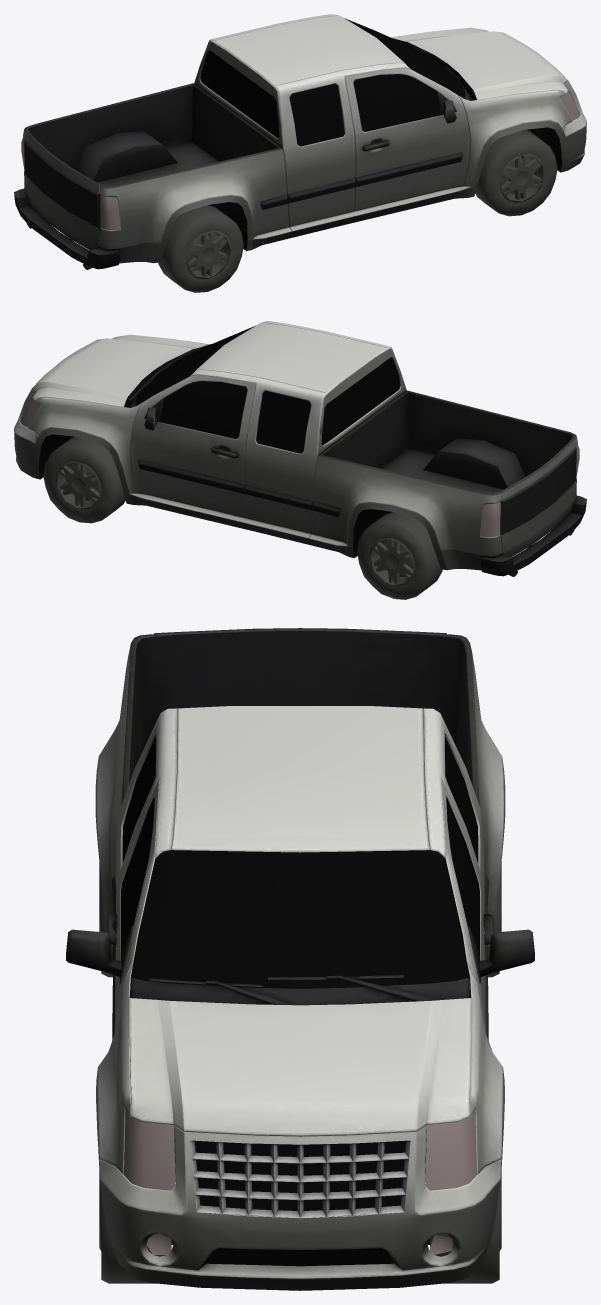
Rendered from pc-pickup-white.lod0.glb.
The picture shows the model from 3 angles, top to bottom: view 1: azimuth 30°, elevation 25°; view 2: azimuth 150°, elevation 25°; view 3: azimuth 270°, elevation 25°; orthographic projection. The views are drawn at different scales.
Visible parts, largest first — view 1: Pickup Body_Body_0, Wheel_E_Wheel_0; view 2: Pickup Body_Body_0, Wheel_E_Wheel_0; view 3: Pickup Body_Body_0, Wheel_E_Wheel_0.
Part boxes in pixels (bbox=[...]): Pickup Body_Body_0: bbox=[14, 14, 586, 269]; Wheel_E_Wheel_0: bbox=[21, 18, 580, 292]; Pickup Body_Body_0: bbox=[14, 321, 586, 576]; Wheel_E_Wheel_0: bbox=[20, 326, 579, 599]; Pickup Body_Body_0: bbox=[66, 628, 534, 1290]; Wheel_E_Wheel_0: bbox=[99, 737, 501, 1283].
Bounding box in the file's own units: 5.18 × 1.69 × 2.07.
Materials: 2 (1 with a texture image).
